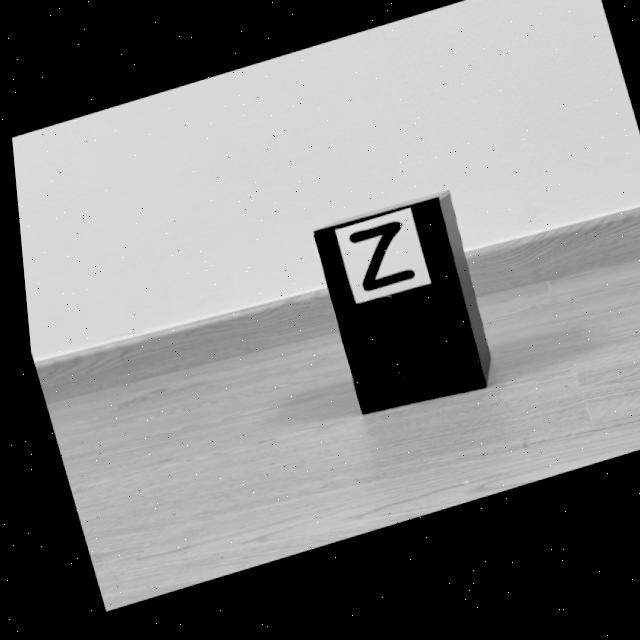Z: (345, 229, 410, 299)
